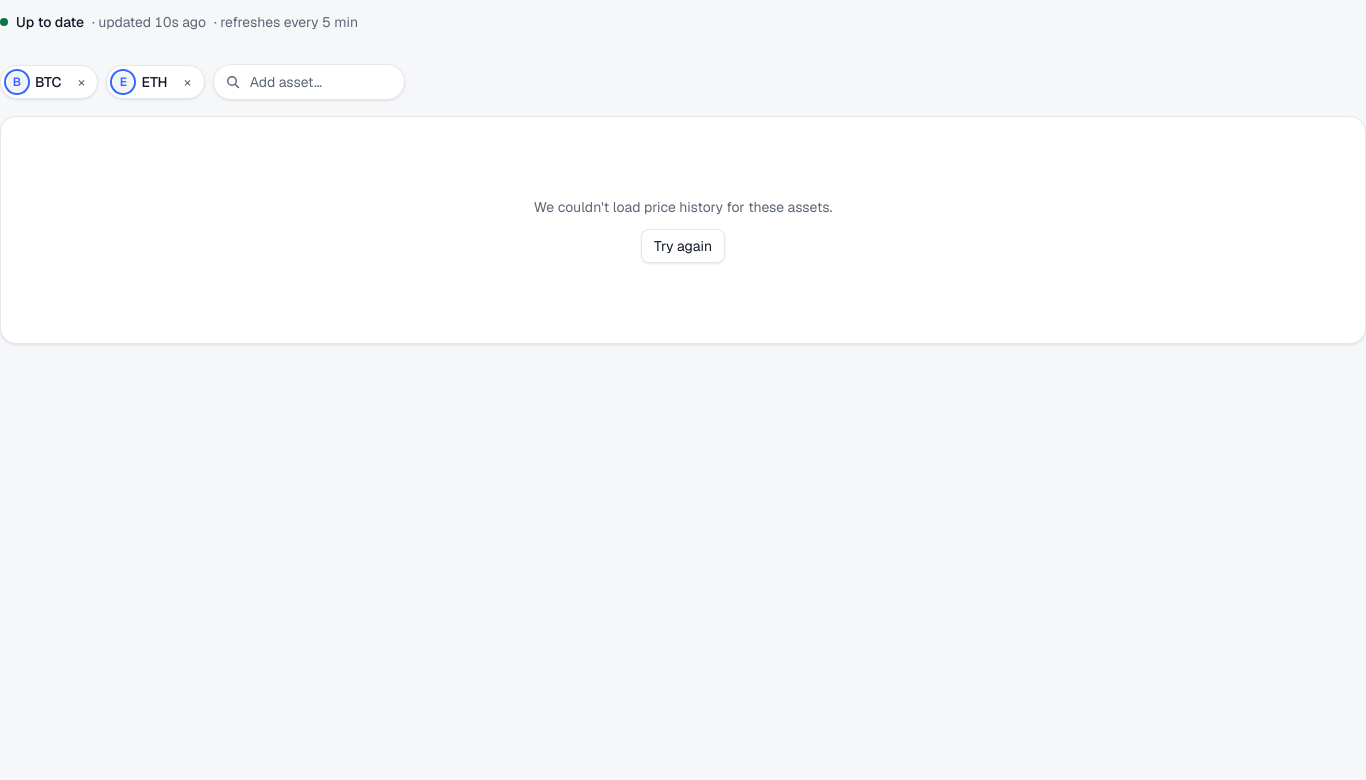
CompareView › shows an error with retry, not an endless placeholder, when history fails
Expected: the text "We couldn't load price history for these assets." is shown, [534,197,832,217]
Click the button "Try again": (683, 246) [641,229,725,263]
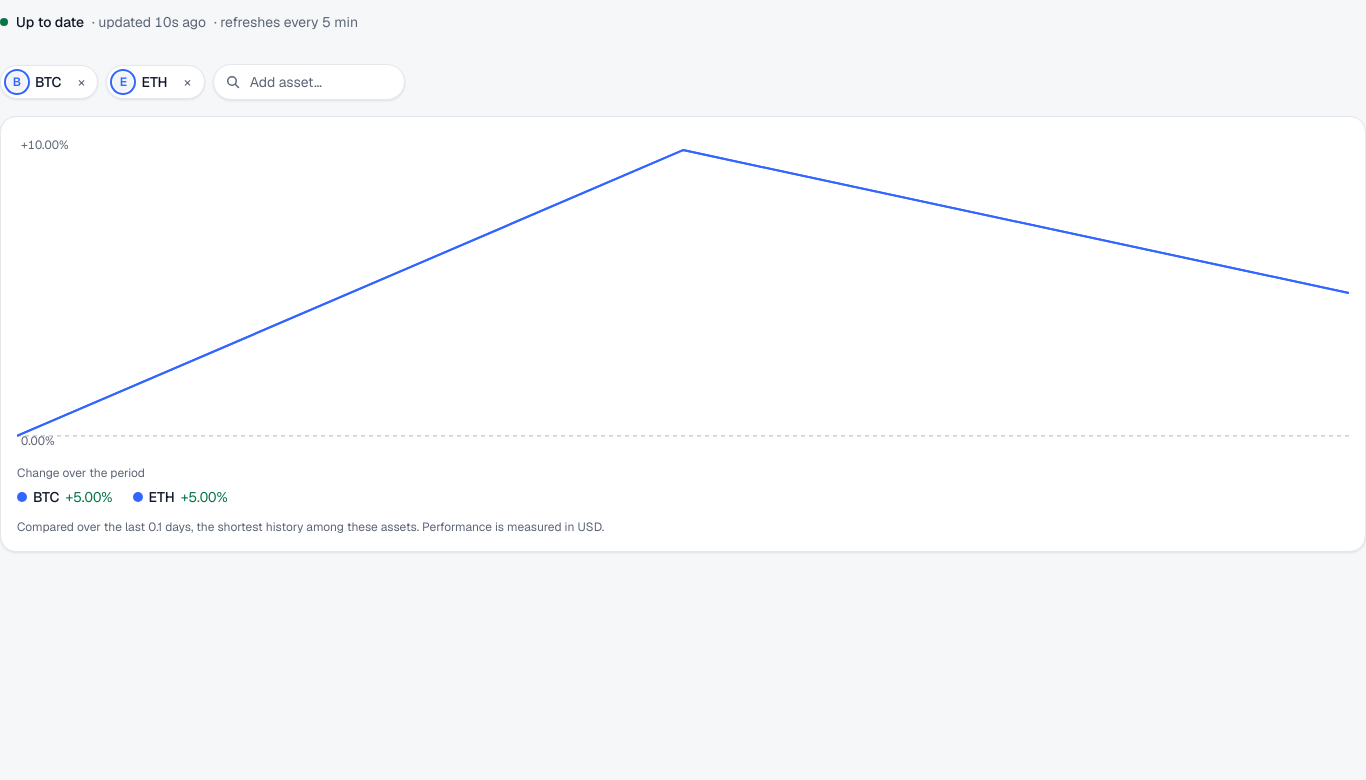
Expected: the element named "Performance over the period" is shown, [17,133,1349,453]
